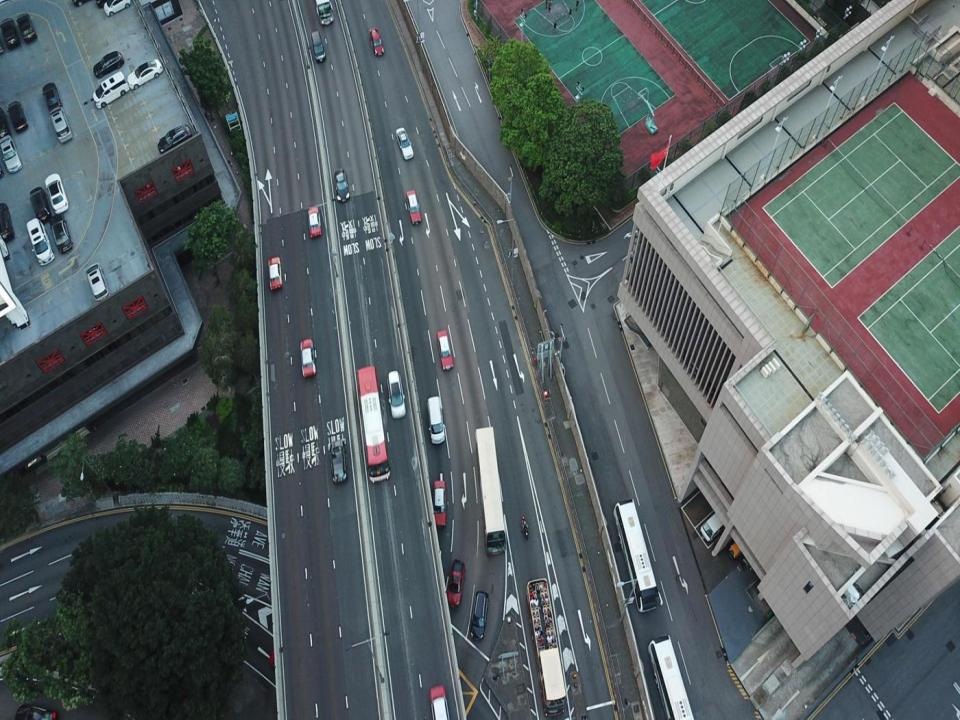bus: (526, 578, 570, 716), (613, 499, 663, 614), (647, 635, 695, 719), (475, 426, 506, 556), (356, 366, 390, 484), (314, 0, 333, 26)
car: (268, 642, 313, 674), (156, 124, 192, 154), (127, 60, 163, 88), (45, 172, 69, 214), (86, 262, 110, 304), (48, 215, 72, 255), (387, 370, 406, 419), (0, 133, 23, 173), (93, 50, 125, 78), (49, 106, 73, 143), (447, 559, 465, 608), (29, 186, 51, 225), (471, 591, 488, 638), (330, 441, 348, 485), (7, 100, 29, 132), (430, 684, 450, 719), (395, 127, 414, 161), (300, 338, 316, 377), (436, 330, 452, 369), (42, 82, 61, 114), (16, 13, 36, 43), (433, 481, 446, 526), (406, 189, 422, 225), (1, 18, 20, 48), (0, 202, 14, 242), (16, 705, 56, 719), (334, 169, 350, 203), (311, 30, 326, 63), (268, 256, 283, 289), (369, 26, 385, 56), (104, 0, 131, 16), (308, 206, 321, 236), (1, 108, 11, 142)
van: (92, 71, 129, 109), (26, 217, 54, 265), (700, 507, 729, 541), (428, 397, 444, 443)
